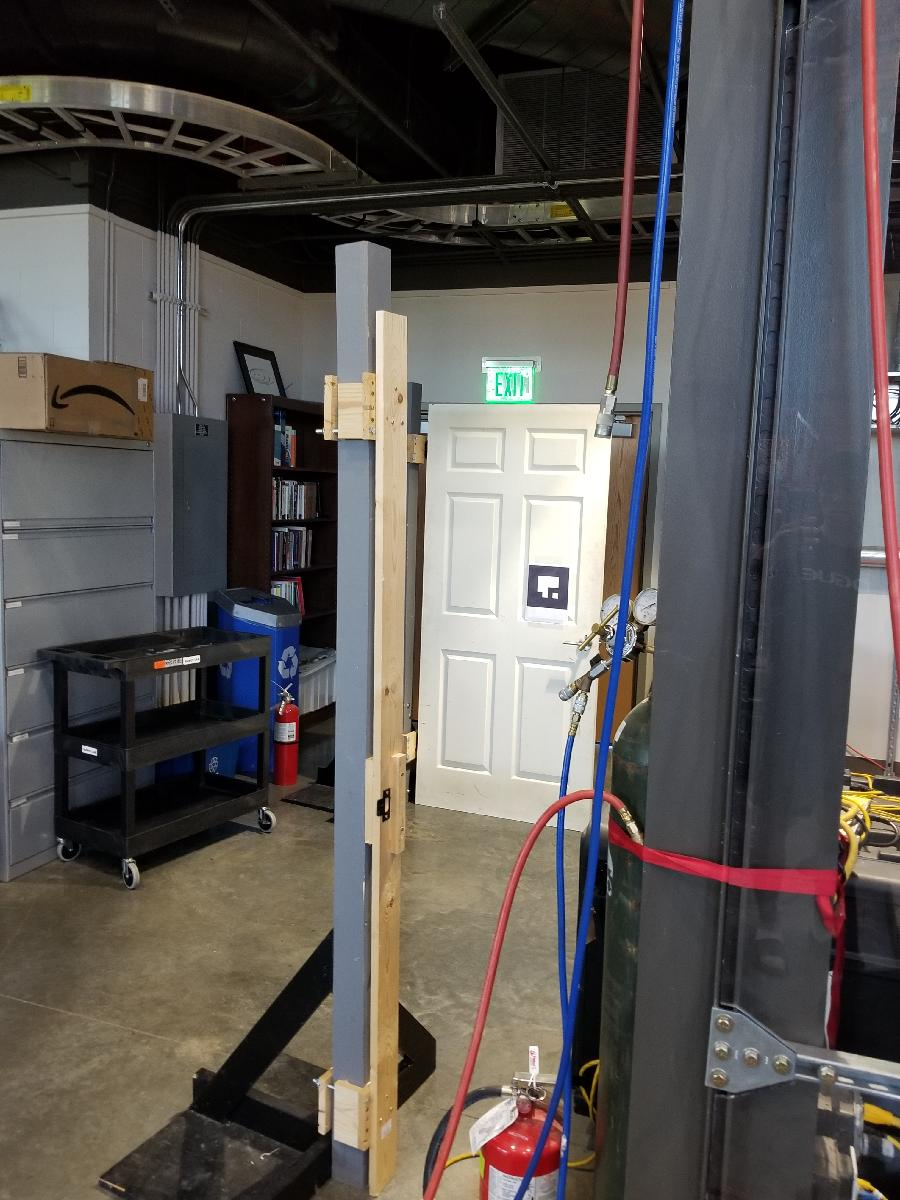door: (409, 399, 624, 841)
doorHandle: (559, 636, 591, 654)
